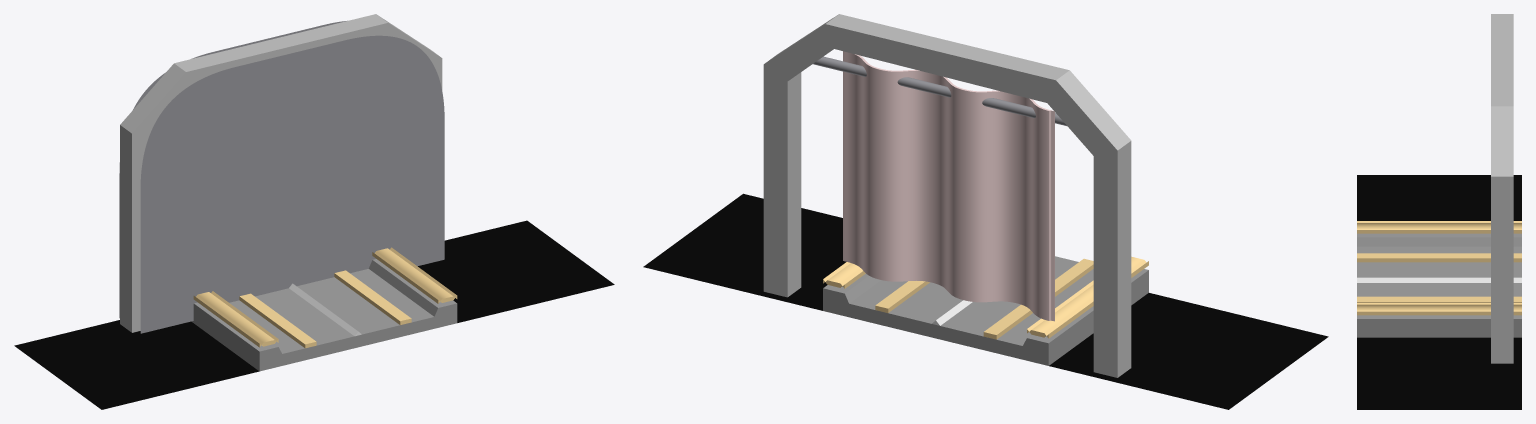
File: station__message--bericht--s.glb
3 views of the same model, side by side, from view 1: azimuth 30°, elevation 25°; view 2: azimuth 150°, elevation 25°; view 3: azimuth 270°, elevation 25° (orthographic). The views are drawn at different scales.
Visible parts, largest first — view 1: lottie_front, _basefloor, road, Boolean, road__top--left, road__top--right, road__rail--right, road__rail--left, lottie_back, road__rail--middle; view 2: douche__gordijn, Boolean, _basefloor, road, gordijn__holder, road__top--left, road__rail--left, road__rail--right, road__top--right; view 3: _basefloor, road, Boolean, road__top--left, road__top--right, road__rail--left, road__rail--right, road__rail--middle.
Boxes of the visible parts, x1,y1,x2,y2 form: lottie_front: (140,35,444,333); _basefloor: (14,220,614,409); road: (191,259,457,371); Boolean: (120,14,442,332); road__top--left: (193,291,278,347); road__top--right: (372,247,457,303); road__rail--right: (334,270,411,325); road__rail--left: (239,293,316,348); lottie_back: (119,20,347,318); road__rail--middle: (289,283,361,336); douche__gordijn: (843,51,1054,321); Boolean: (763,14,1131,377); _basefloor: (643,193,1328,409); road: (823,256,1148,365); gordijn__holder: (813,56,1066,125); road__top--left: (1027,256,1148,338); road__rail--left: (983,258,1093,339); road__rail--right: (875,281,929,312); road__top--right: (823,262,865,288); _basefloor: (1357,175,1521,409); road: (1357,233,1521,337); Boolean: (1491,14,1513,363); road__top--left: (1357,221,1521,233); road__top--right: (1357,303,1521,315); road__rail--left: (1357,253,1521,262); road__rail--right: (1357,296,1521,302); road__rail--middle: (1357,277,1521,282).
Size of the model in its own units: 10.8 by 4.98 by 3.2.
